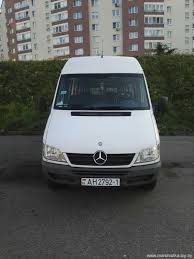van: (41, 55, 162, 193)
